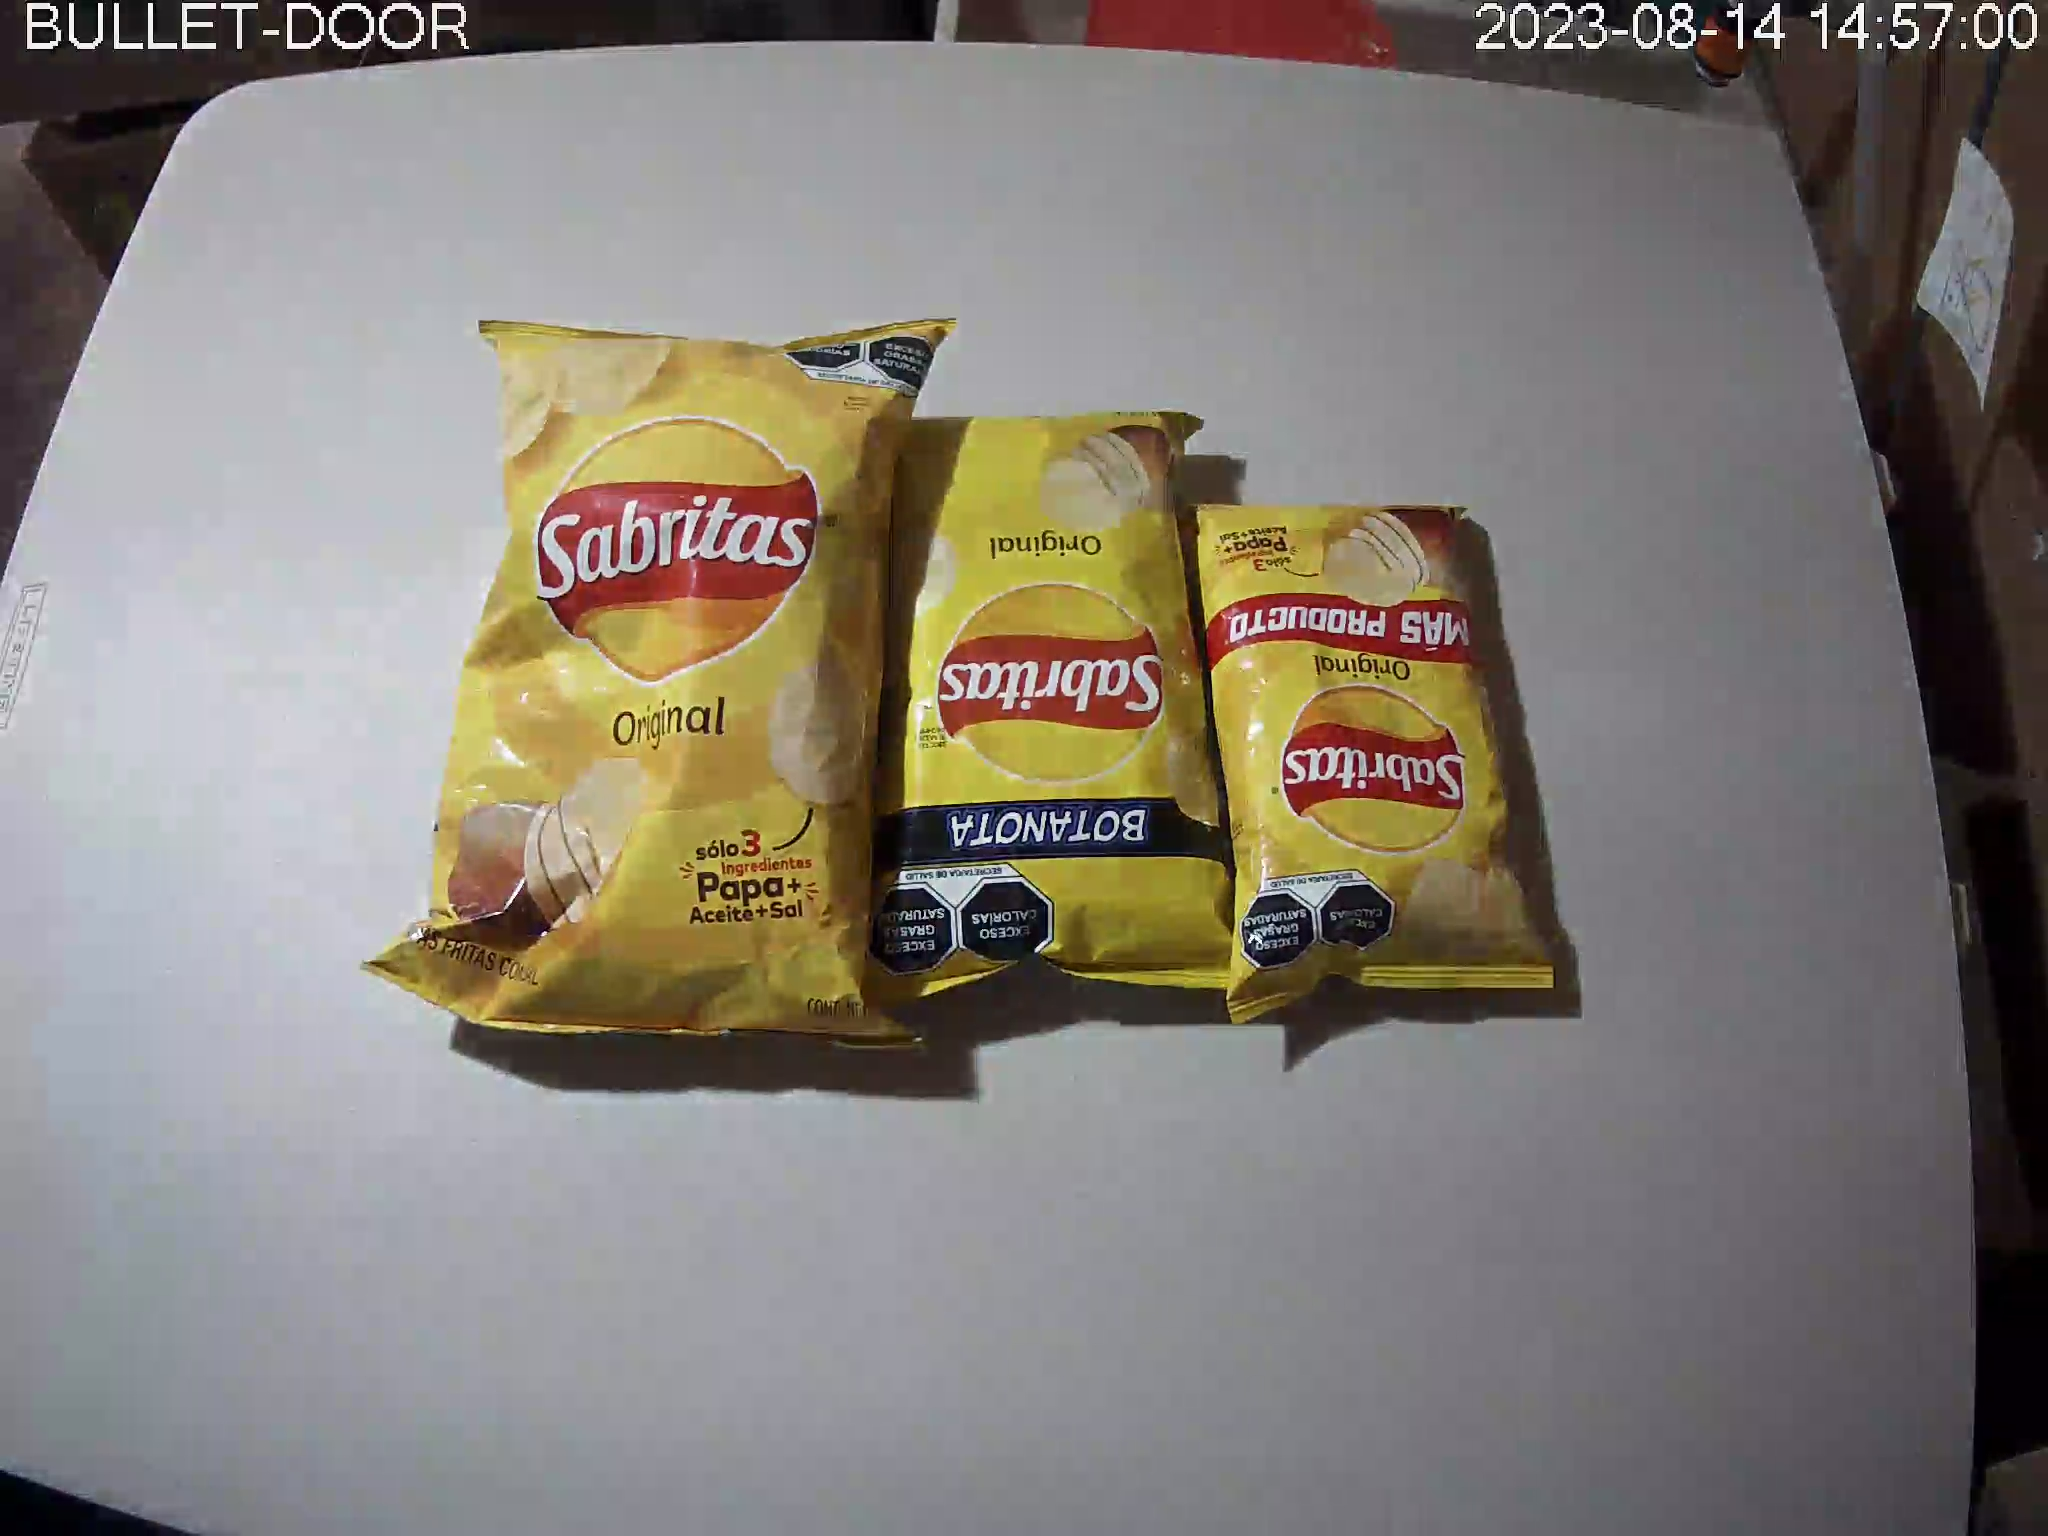Sabritas_160_F: (361, 315, 961, 1054)
Sabritas_45_F: (1161, 495, 1558, 1023)
Sabritas_64_F: (830, 411, 1253, 1000)
